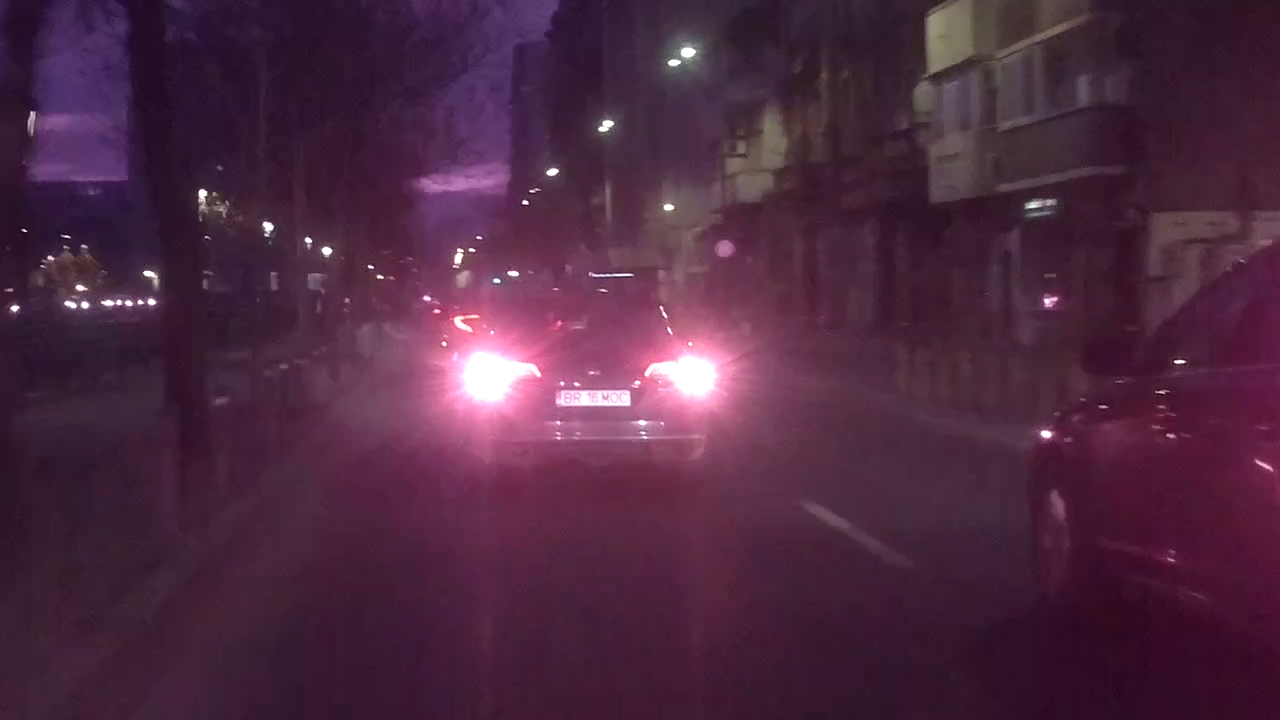license-plate: (550, 387, 633, 409)
